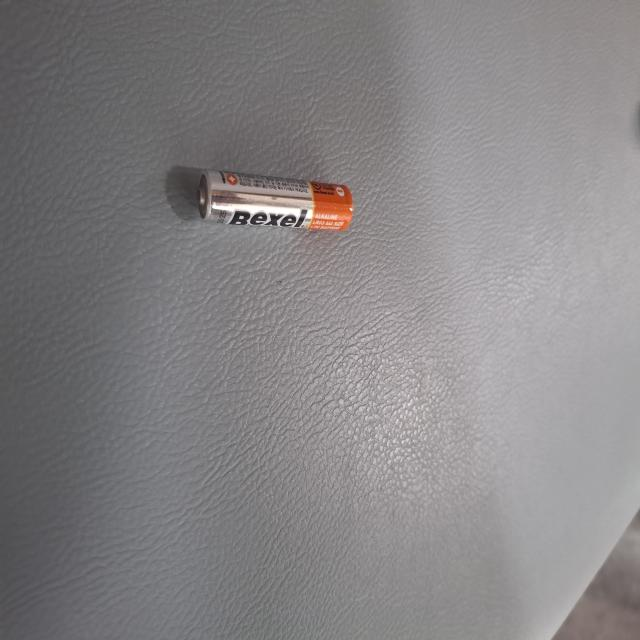AAA: (125, 381, 176, 593)
